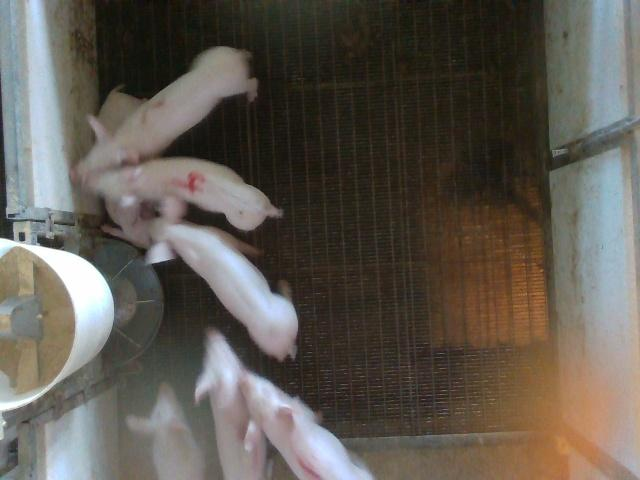pig-1: (241, 371, 374, 479)
pig-2: (76, 46, 258, 182)
pig-3: (195, 329, 265, 478)
pig-4: (91, 158, 282, 231)
